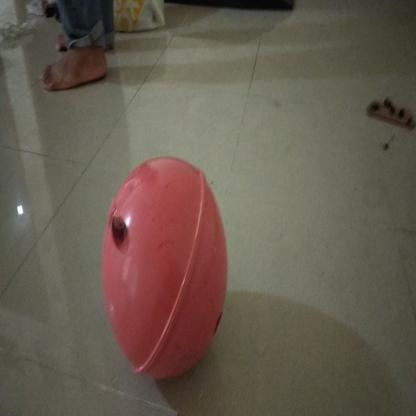red_buoy: (98, 154, 231, 389)
